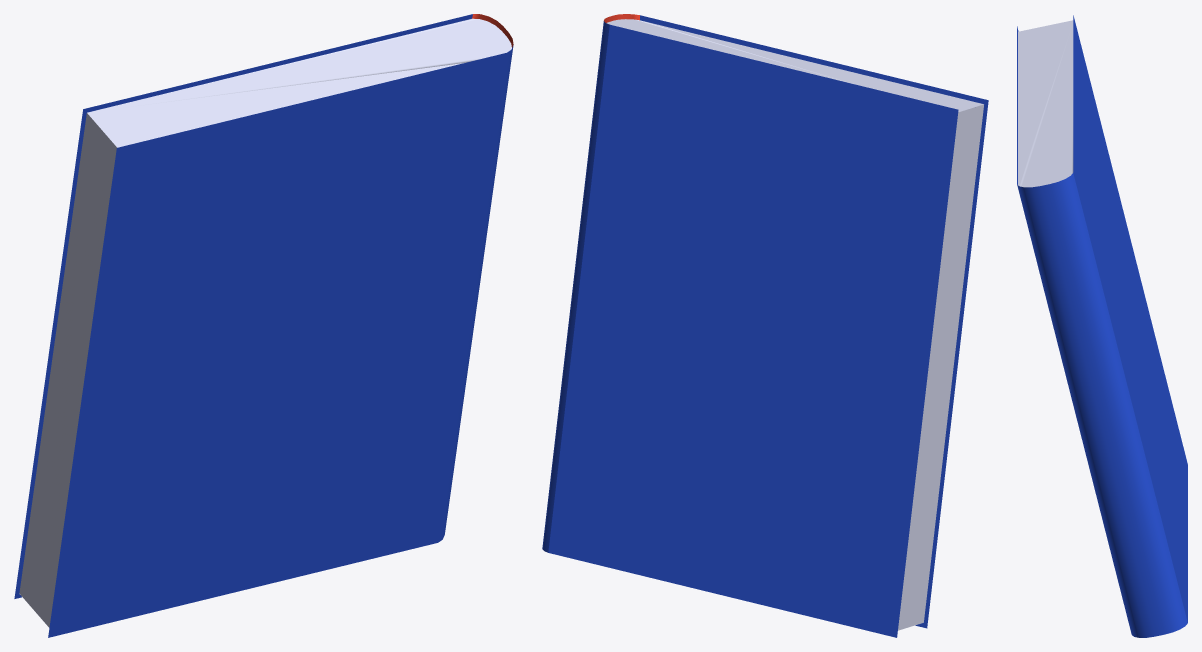
Rendered from book_blue.fbx.
The picture shows the model from 3 angles, left to right: view 1: azimuth 30°, elevation 25°; view 2: azimuth 150°, elevation 25°; view 3: azimuth 270°, elevation 25°; orthographic projection. The views are drawn at different scales.
Parts seen in each view (by area): view 1: 立方体.001; view 2: 立方体.001; view 3: 立方体.001.
Part boxes in pixels (box(x1,y1,x2,y2)): 立方体.001: box(14, 14, 513, 637); 立方体.001: box(542, 14, 988, 637); 立方体.001: box(1017, 15, 1187, 637).
Size of the model in its own units: 18.45 by 24.07 by 8.06.
